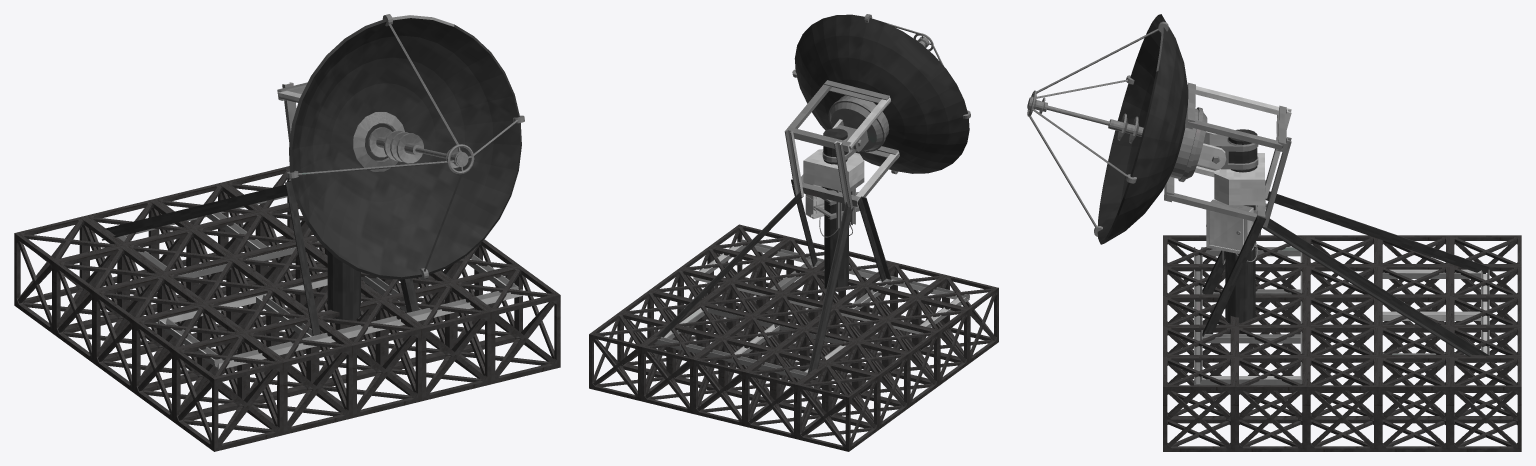
File: poi-satellite-huge.fbx
The picture shows the model from 3 angles, left to right: view 1: azimuth 30°, elevation 25°; view 2: azimuth 150°, elevation 25°; view 3: azimuth 270°, elevation 25°; orthographic projection. The views are drawn at different scales.
Parts seen in each view (by area): view 1: Cube.038; view 2: Cube.038; view 3: Cube.038.
Part boxes in pixels (x1,y1,x2,y2): Cube.038: (14, 14, 560, 451); Cube.038: (589, 14, 998, 451); Cube.038: (1027, 14, 1521, 451).
Bounding box in the file's own units: 3238 × 3524 × 4466.
